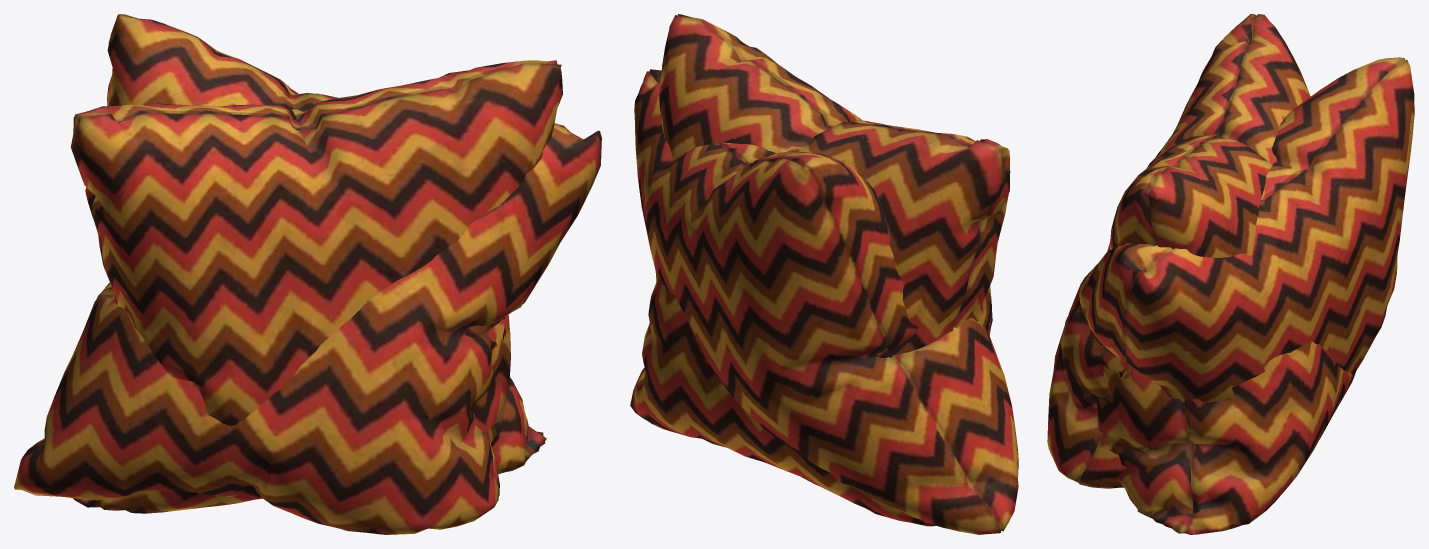
File: pillows.glb
3 views of the same model, side by side, from view 1: azimuth 30°, elevation 25°; view 2: azimuth 150°, elevation 25°; view 3: azimuth 270°, elevation 25° (orthographic). The views are drawn at different scales.
Visible parts, largest first — view 1: throw_pillows_01_pillow02, throw_pillows_01_pillow01; view 2: throw_pillows_01_pillow01, throw_pillows_01_pillow02; view 3: throw_pillows_01_pillow01, throw_pillows_01_pillow02.
Part boxes in pixels (<box>): throw_pillows_01_pillow02: <box>70,60,562,513</box>; throw_pillows_01_pillow01: <box>14,14,601,534</box>; throw_pillows_01_pillow01: <box>634,69,1018,534</box>; throw_pillows_01_pillow02: <box>630,14,1010,526</box>; throw_pillows_01_pillow01: <box>1047,57,1414,488</box>; throw_pillows_01_pillow02: <box>1090,14,1355,534</box>.
Bounding box in the file's own units: 0.572 × 0.4502 × 0.4267.
1 material, 1 textured.
